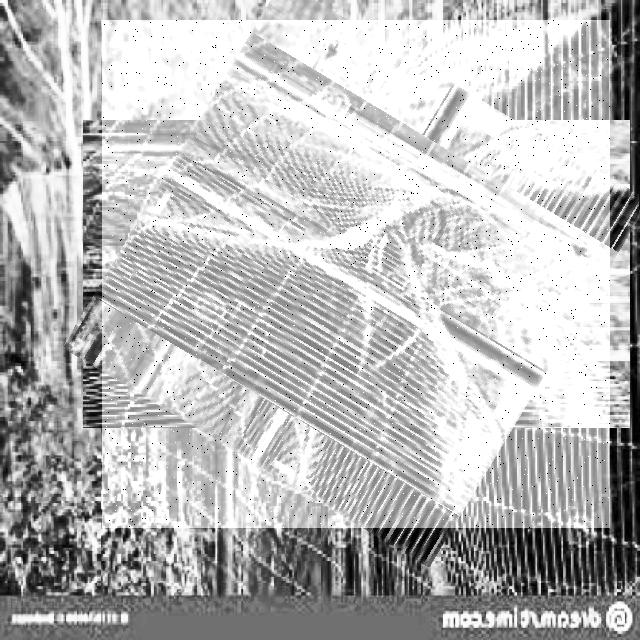anomaly-fence: (102, 20, 610, 528)
